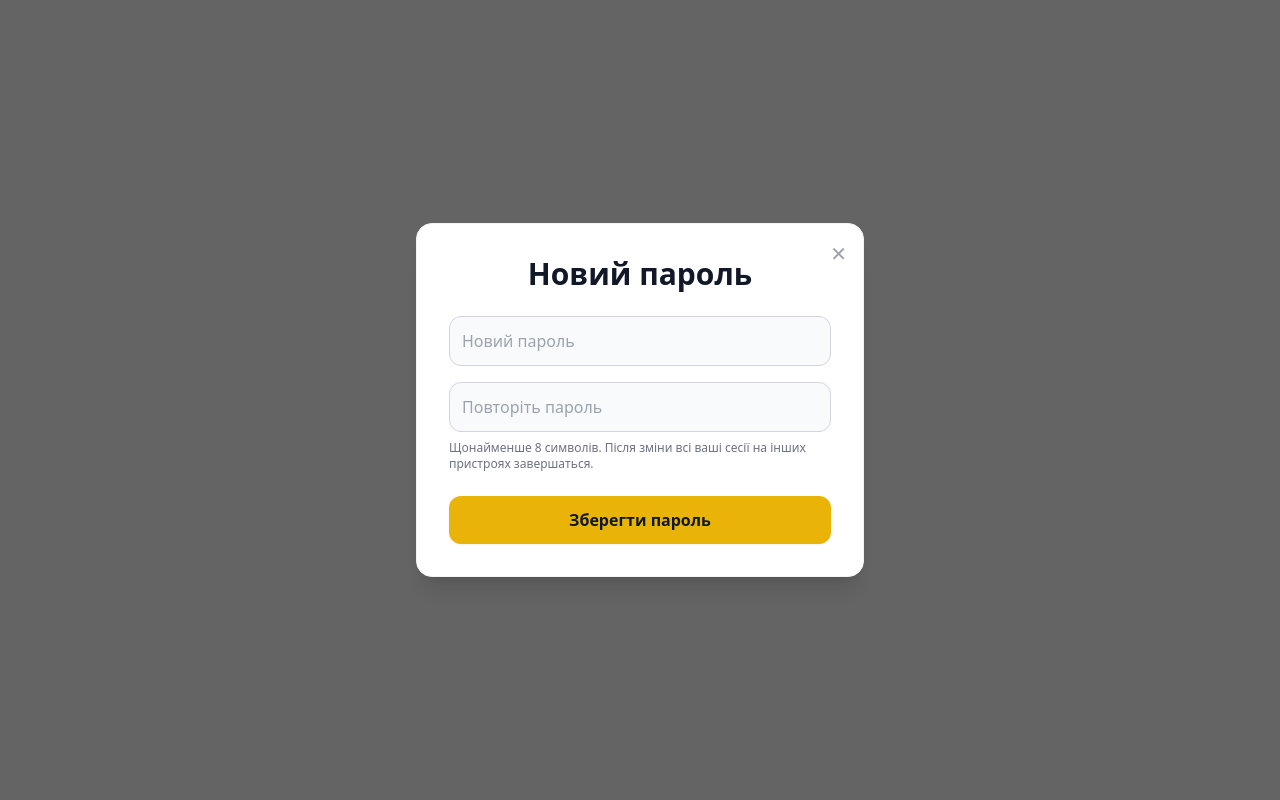
it: ResetPasswordModal › checks that both passwords match
Type "brand-new-pass" into the password field with placeholder "Новий пароль" at coordinates (640, 341), box [449,316,831,366]
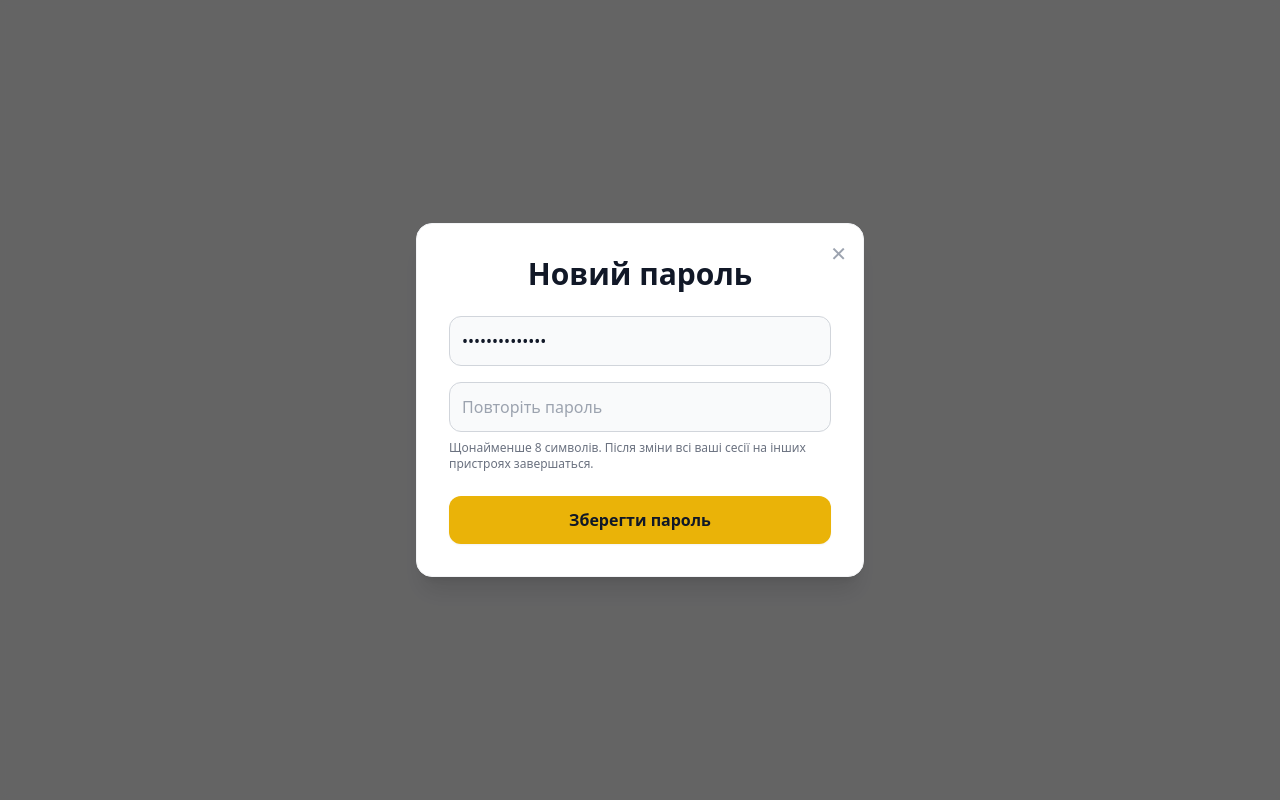
Type "other-pass-1" into the password field with placeholder "Повторіть пароль" at coordinates (640, 407), box [449,382,831,432]
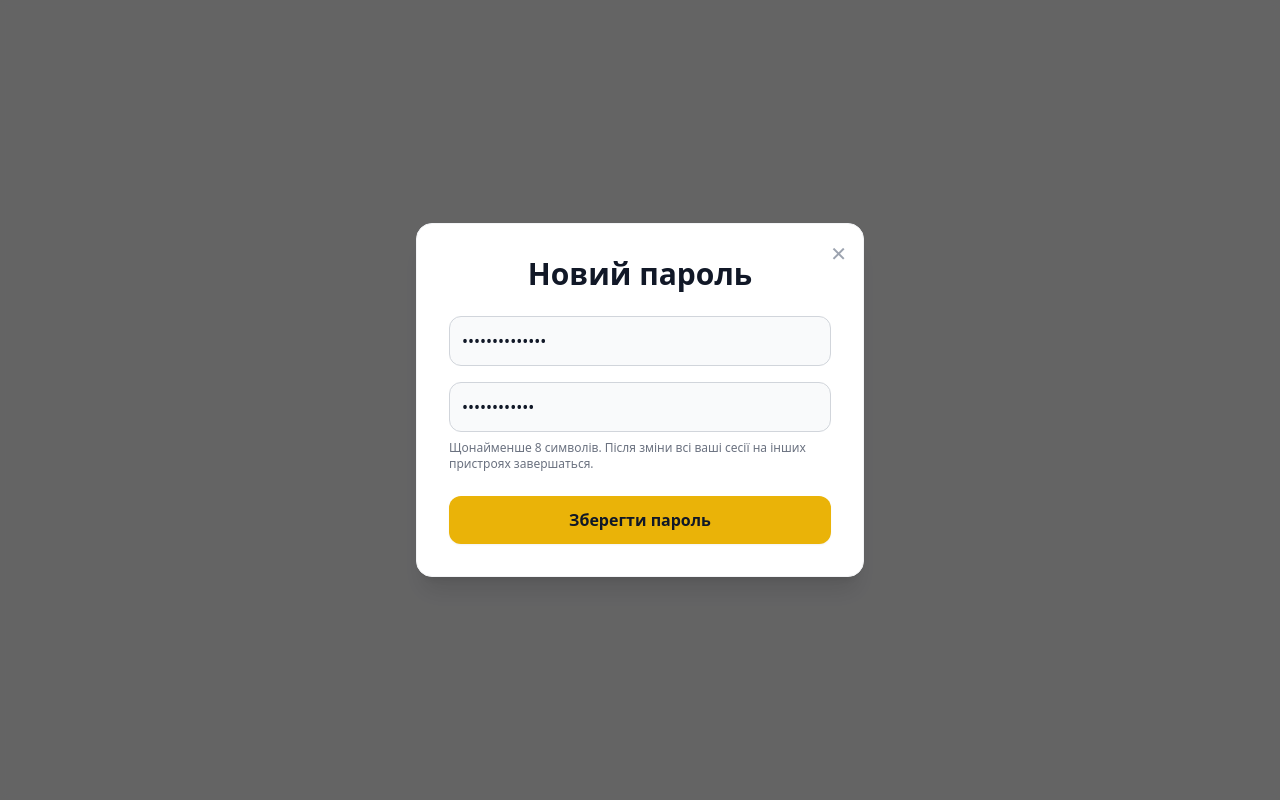
Click the button "Зберегти пароль" at coordinates (640, 520), box [449,496,831,544]
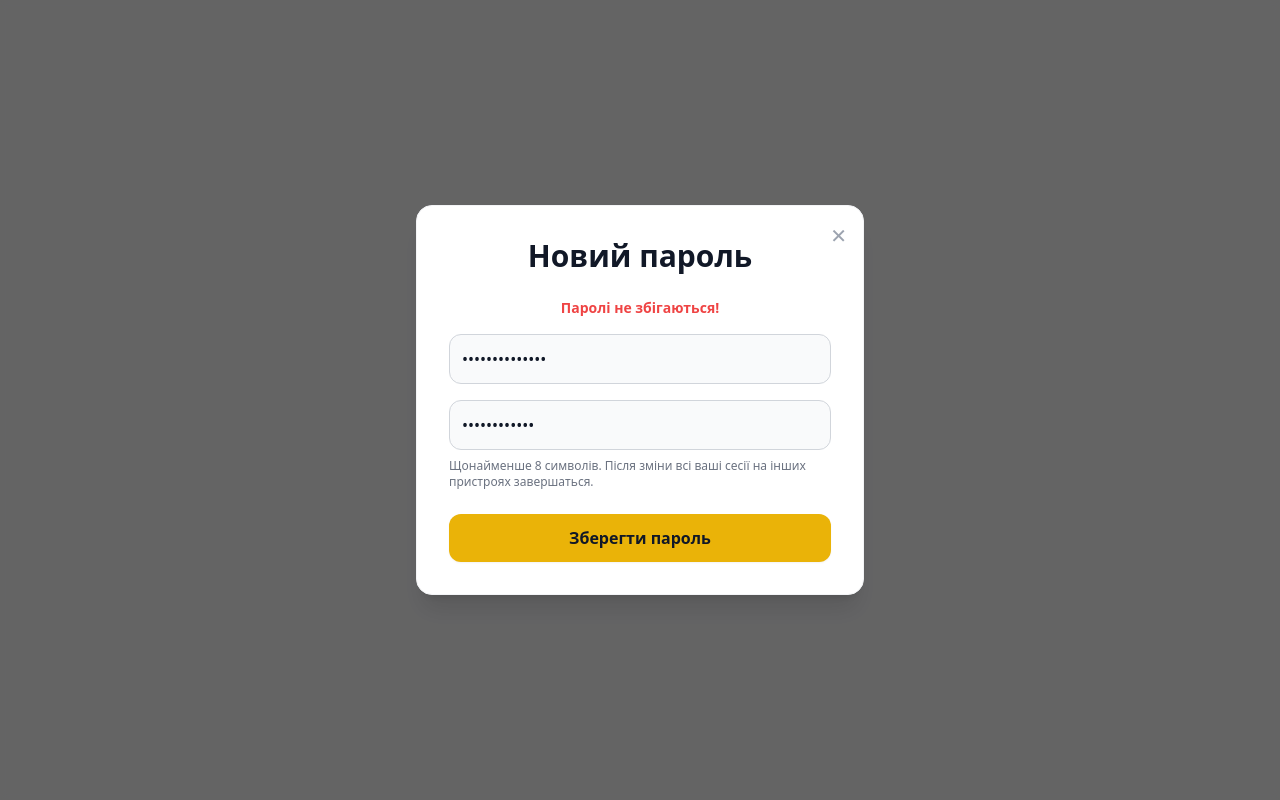
Expected: the message shows "Паролі не збігаються", [561,298,719,317]
